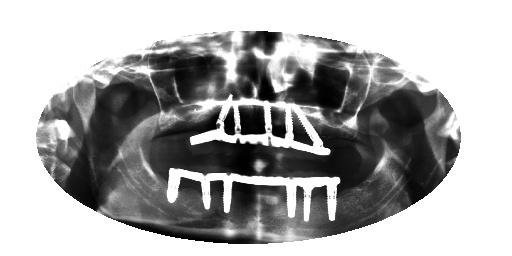Implant: (184, 93, 235, 146), (301, 102, 330, 160), (320, 174, 346, 225), (277, 97, 299, 155), (230, 98, 251, 147), (259, 98, 277, 153), (282, 175, 300, 225), (220, 171, 240, 213), (167, 163, 183, 211), (301, 178, 316, 223), (198, 169, 214, 210)
